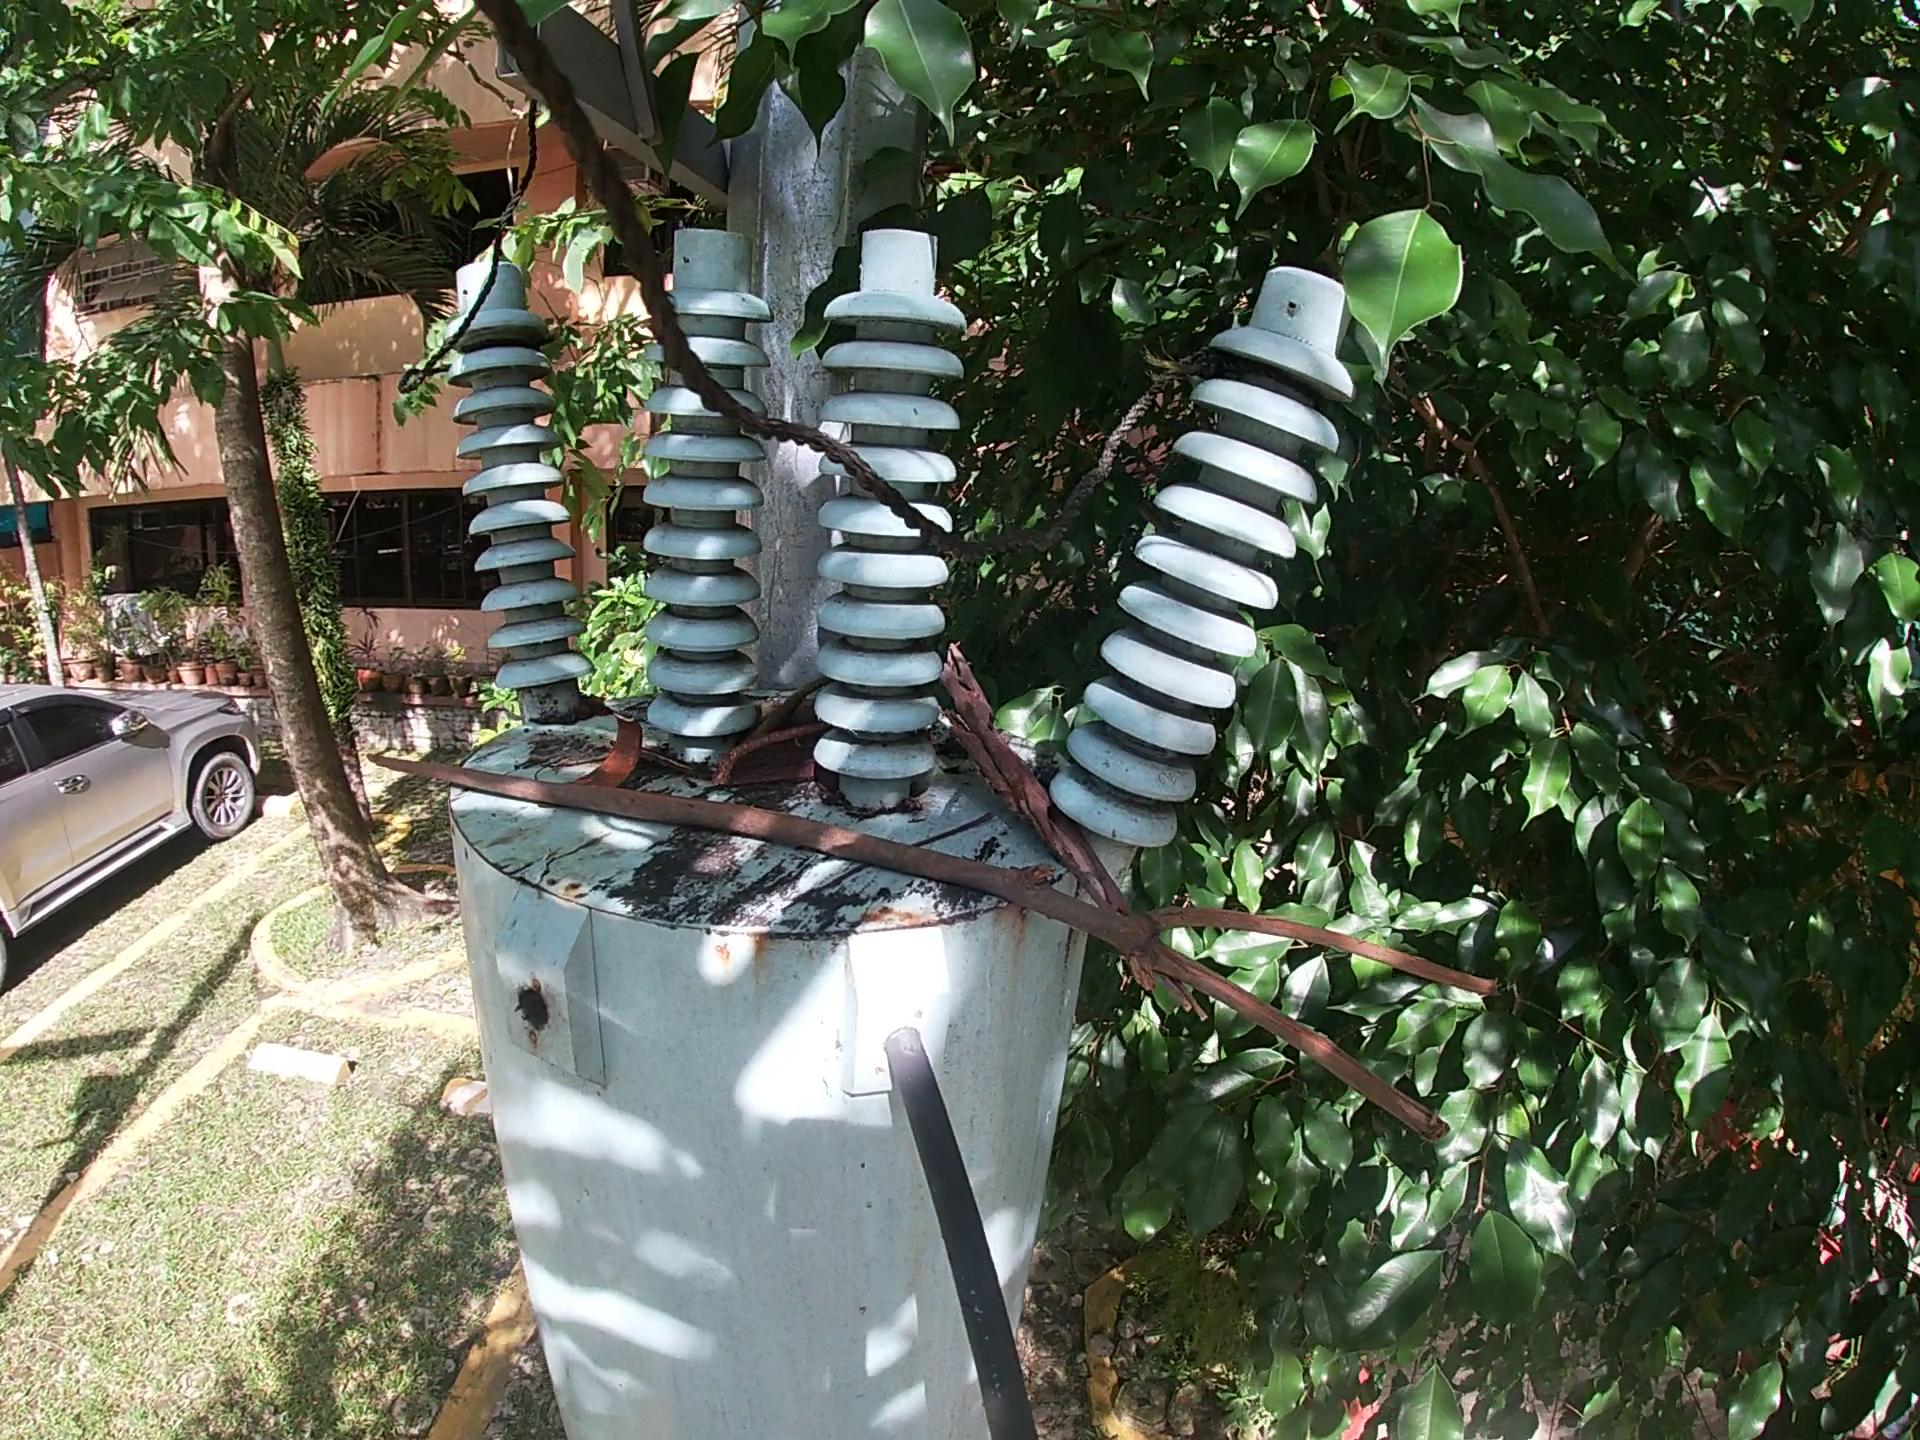mahogany fruit: (709, 715, 833, 797), (568, 712, 655, 791)
tree branch: (361, 744, 1500, 1160), (931, 641, 1200, 1027), (741, 672, 841, 749)
